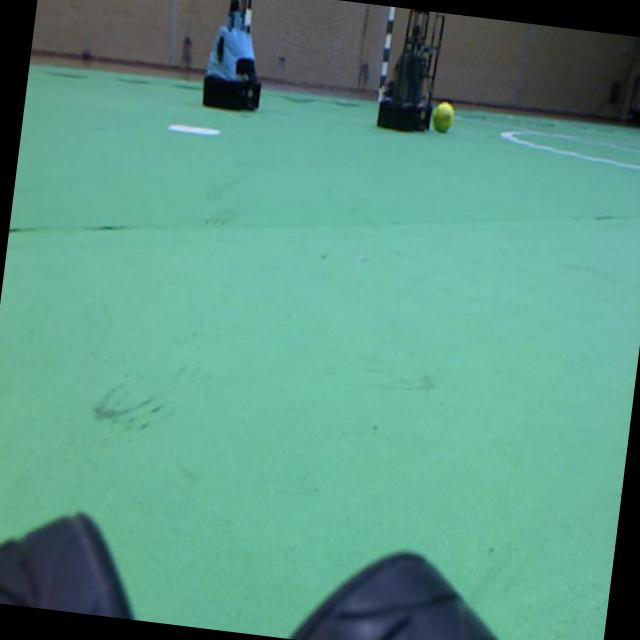ball: (432, 100, 453, 131)
robot: (376, 9, 444, 130)
